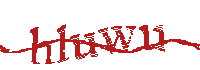h: (29, 25, 53, 66)
l: (55, 24, 70, 63)
u: (69, 31, 100, 60), (140, 22, 167, 52)
w: (98, 25, 136, 53)
